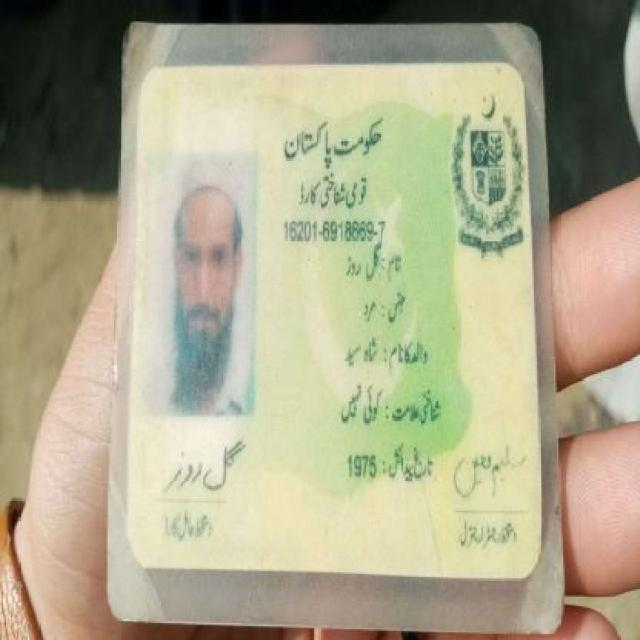Front: (115, 52, 548, 596)
